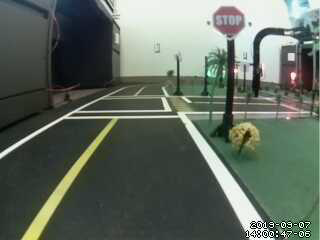Stop_Sign: (211, 5, 250, 43)
